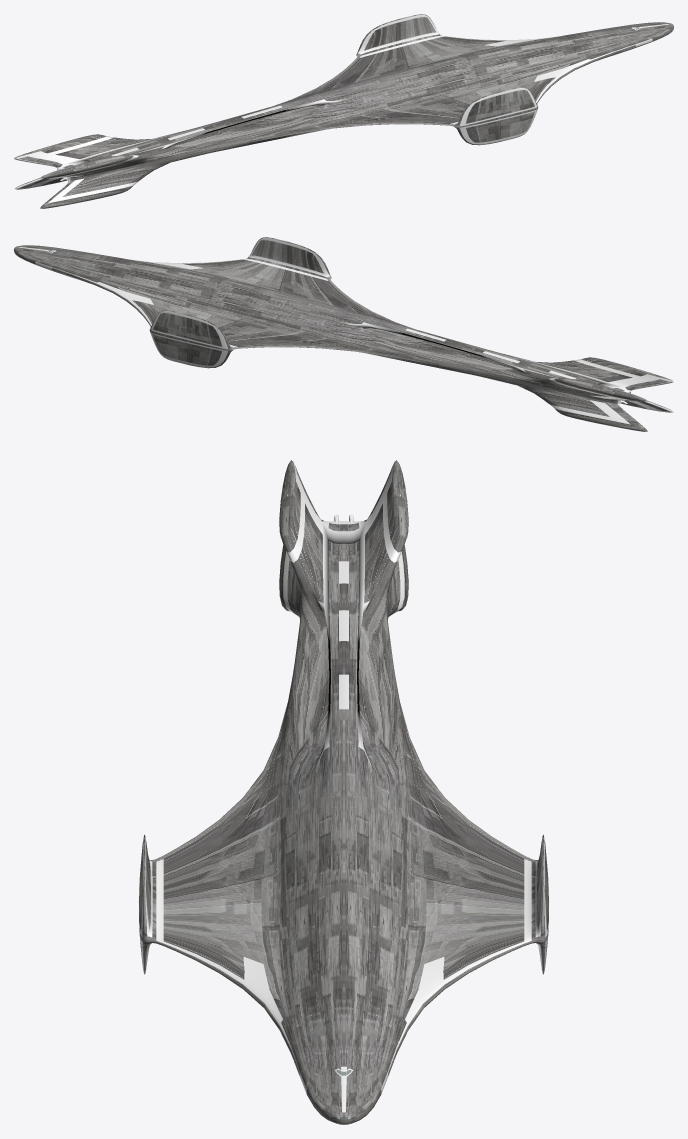
Rendered from Eriax_Frigate.FBX.
The picture shows the model from 3 angles, top to bottom: view 1: azimuth 30°, elevation 25°; view 2: azimuth 150°, elevation 25°; view 3: azimuth 270°, elevation 25°; orthographic projection. The views are drawn at different scales.
Visible parts, largest first — view 1: Box01; view 2: Box01; view 3: Box01.
Part boxes in pixels (<box>): Box01: <box>14,14,673,208</box>; Box01: <box>14,237,673,431</box>; Box01: <box>139,460,548,1124</box>.
Bounding box in the file's own units: 1559 × 116 × 429.
6 materials, 1 textured.
